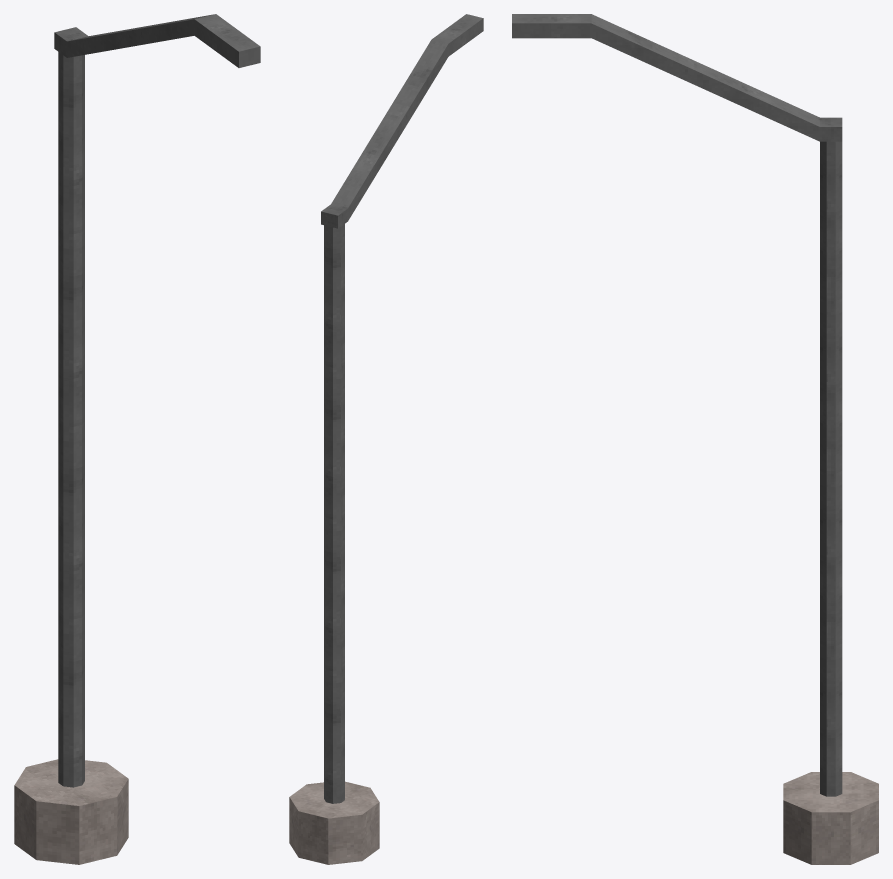
The model's file is StreetLight_Single_Lit.fbx.
The picture shows the model from 3 angles, left to right: view 1: azimuth 30°, elevation 25°; view 2: azimuth 150°, elevation 25°; view 3: azimuth 270°, elevation 25°; orthographic projection. The views are drawn at different scales.
Parts seen in each view (by area): view 1: StreetLightSingle; view 2: StreetLightSingle; view 3: StreetLightSingle.
Boxes of the visible parts, <box> form: StreetLightSingle: <box>14,14,260,864</box>; StreetLightSingle: <box>289,14,483,864</box>; StreetLightSingle: <box>512,14,878,864</box>.
Size of the model in its own units: 125 by 482 by 1197.
Materials: 3 (3 with a texture image).
